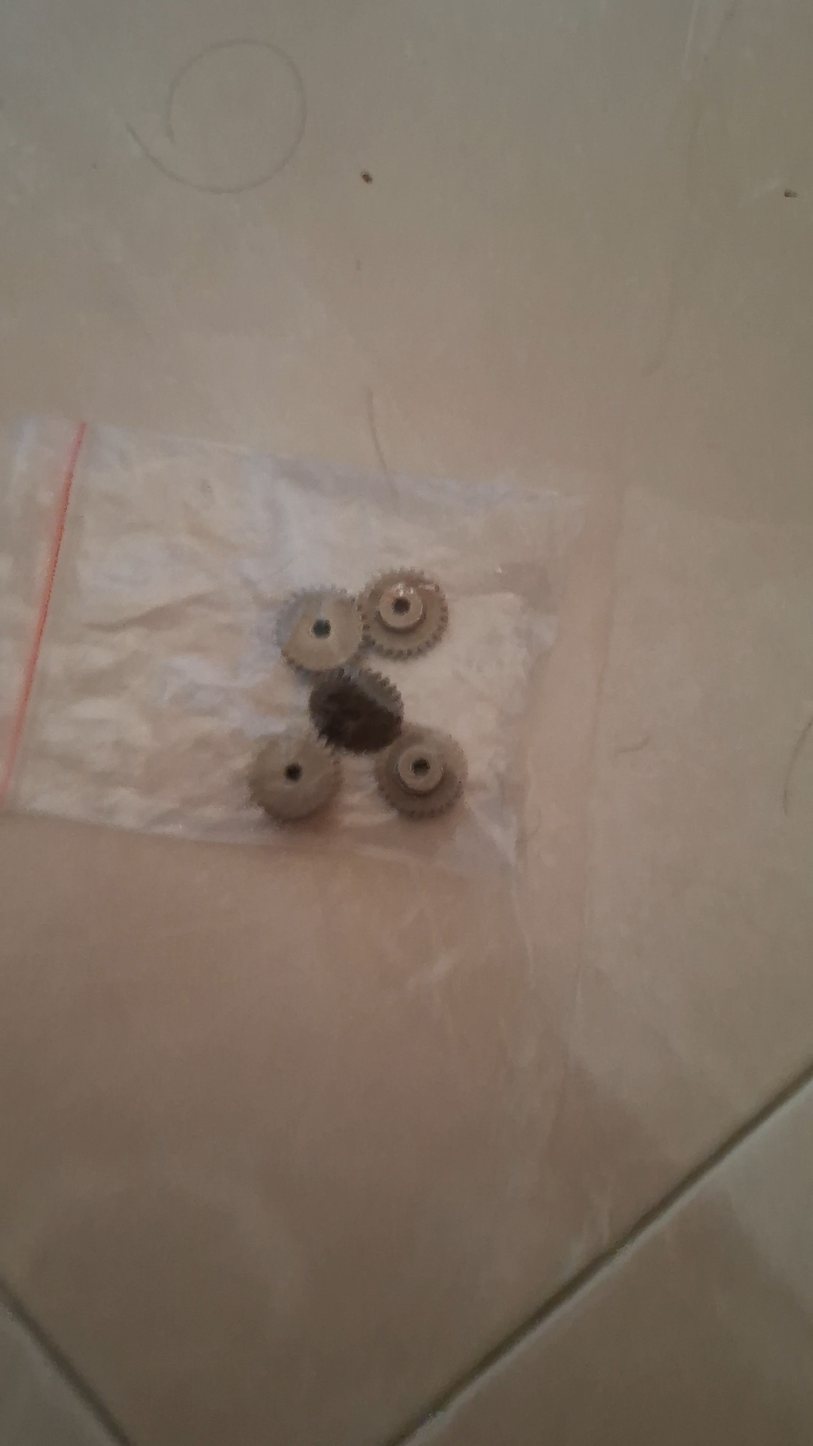spur gear: (248, 725, 339, 821), (375, 727, 467, 818), (310, 667, 403, 752), (359, 569, 448, 657), (277, 587, 363, 673)
